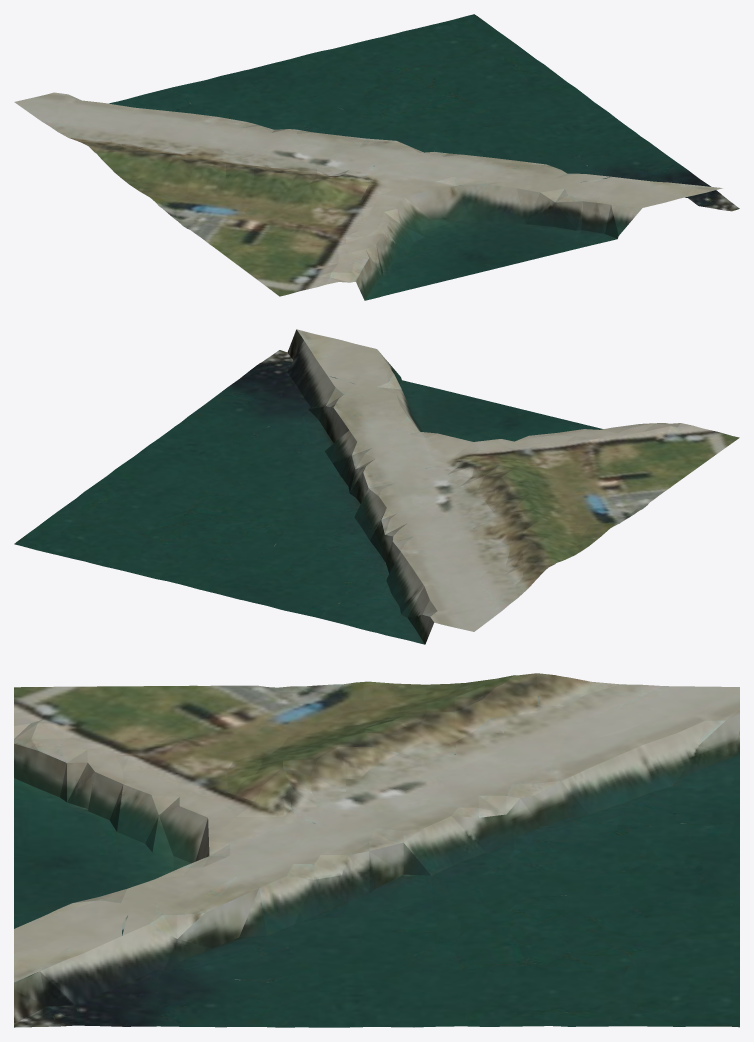
3 renders of one model, top to bottom at view 1: azimuth 30°, elevation 25°; view 2: azimuth 150°, elevation 25°; view 3: azimuth 270°, elevation 25°, orthographic. The views are drawn at different scales.
Size of the model in its own units: 104 by 7.83 by 104.
Materials: 3 (3 with a texture image).
